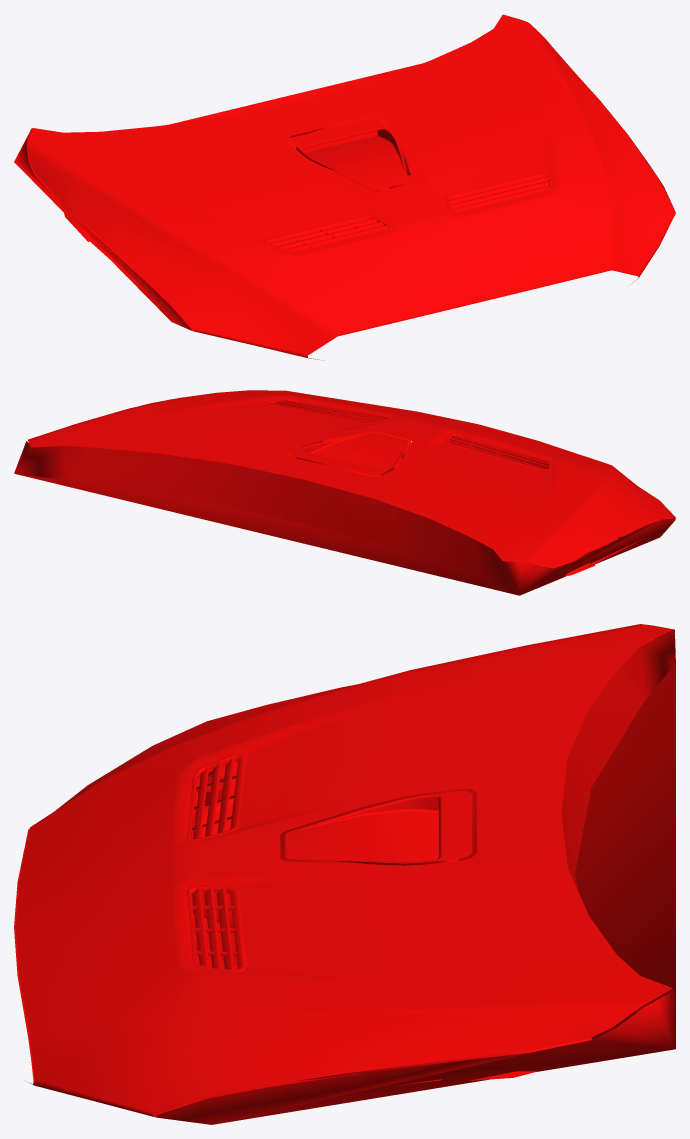
Rendered from evox_engine_top.FBX.
The picture shows the model from 3 angles, top to bottom: view 1: azimuth 30°, elevation 25°; view 2: azimuth 150°, elevation 25°; view 3: azimuth 270°, elevation 25°; orthographic projection. The views are drawn at different scales.
Parts seen in each view (by area): view 1: DrawCall31, DrawCall37; view 2: DrawCall31, DrawCall37; view 3: DrawCall31, DrawCall37.
Boxes of the visible parts, left/top/right/bottom form: DrawCall31: left=27, top=14, right=675, bottom=357; DrawCall37: left=14, top=15, right=675, bottom=360; DrawCall31: left=28, top=390, right=675, bottom=566; DrawCall37: left=14, top=431, right=675, bottom=595; DrawCall31: left=15, top=624, right=672, bottom=1116; DrawCall37: left=14, top=625, right=675, bottom=1124.
Size of the model in its own units: 3200 by 604 by 2266.
